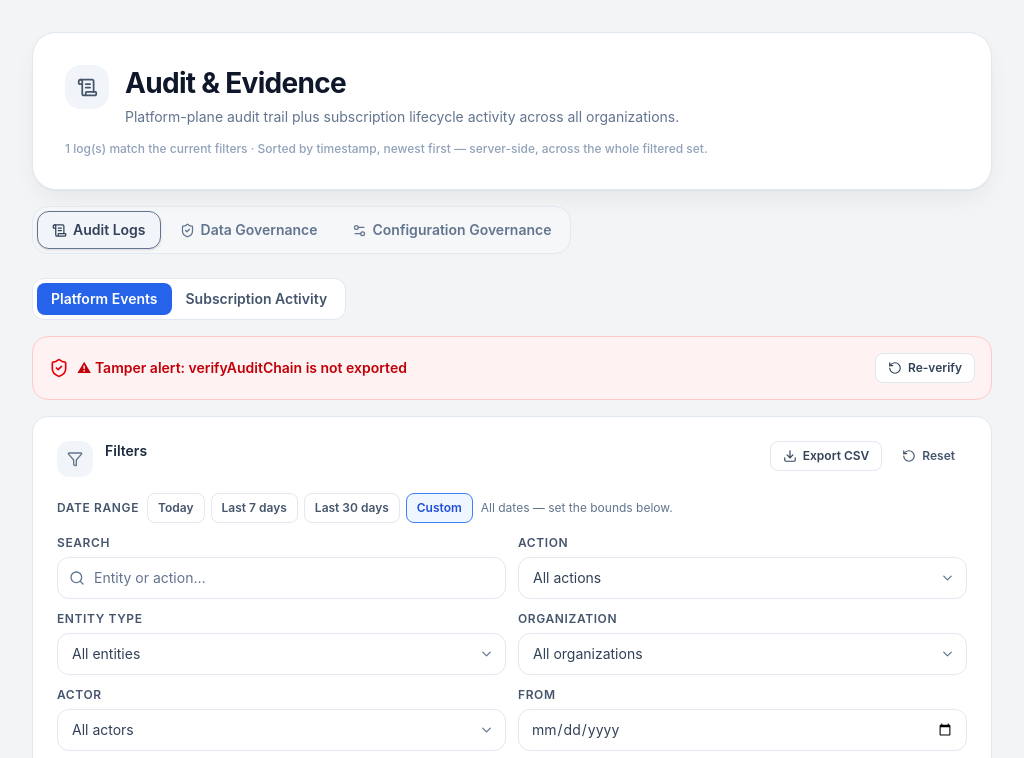
AuditLogsPage › surfaces an export failure as an error, not a success message
Click the button "Export CSV" at (826, 456), box [770,441,882,471]
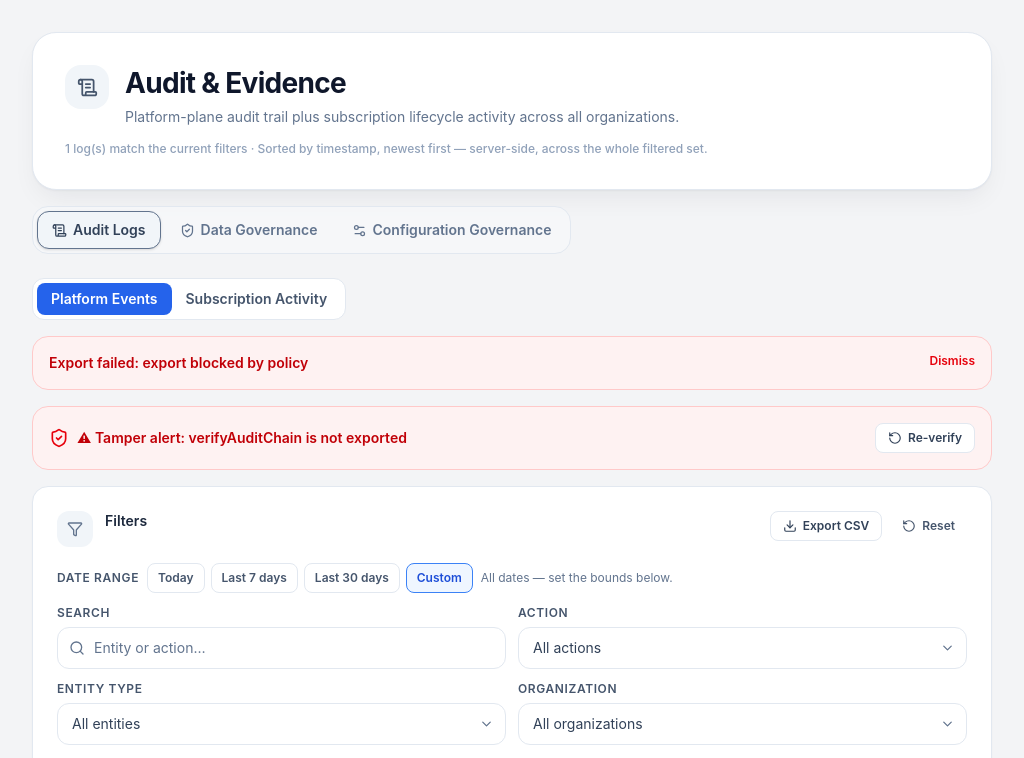
Result: the message "Export failed: export blocked by policy Dismiss" is shown at [32,336,992,390]
